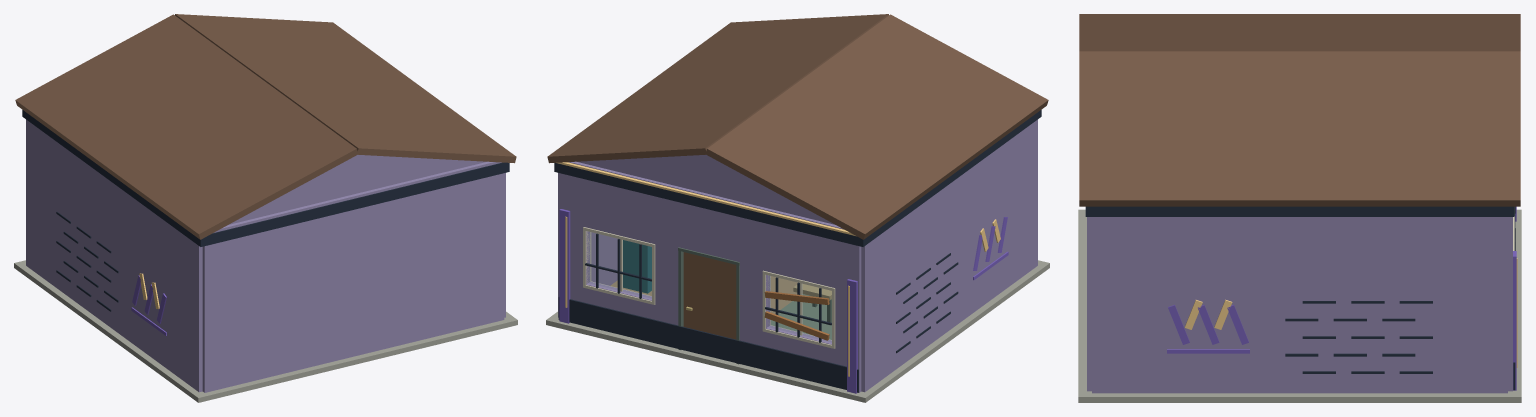
File: home.glb
3 renders of one model, left to right at view 1: azimuth 30°, elevation 25°; view 2: azimuth 150°, elevation 25°; view 3: azimuth 270°, elevation 25°, orthographic. The views are drawn at different scales.
Parts seen in each view (by area): view 1: pitched-roof (×2), back-wall, side-wall, roof-gable, foundation, cornice-outline; view 2: pitched-roof (×2), side-wall (×2), front-wall (×7), painted-plinth, roof-gable, foundation, cornice-outline, window-glass (×2), door-panel, corner-pilaster (×2), cornice-gloss, cabinet-body (+4 smaller); view 3: pitched-roof (×2), side-wall, foundation, cornice-outline, back-wall, corner-pilaster, graffiti-underline.
Part boxes in pixels (bbox=[...]): pitched-roof (×2): bbox=[15, 14, 516, 239]; back-wall: bbox=[202, 161, 504, 392]; side-wall: bbox=[26, 119, 202, 392]; roof-gable: bbox=[228, 155, 486, 224]; foundation: bbox=[14, 260, 517, 402]; cornice-outline: bbox=[22, 110, 509, 246]; pitched-roof (×2): bbox=[547, 14, 1048, 239]; side-wall (×2): bbox=[558, 119, 1037, 392]; front-wall (×7): bbox=[559, 161, 861, 392]; painted-plinth: bbox=[558, 297, 858, 392]; roof-gable: bbox=[577, 155, 835, 224]; foundation: bbox=[546, 260, 1049, 402]; cornice-outline: bbox=[554, 110, 1041, 246]; window-glass (×2): bbox=[588, 232, 831, 341]; door-panel: bbox=[683, 252, 736, 339]; corner-pilaster (×2): bbox=[559, 209, 857, 393]; cornice-gloss: bbox=[556, 162, 856, 236]; cabinet-body: bbox=[623, 240, 651, 293]; pitched-roof (×2): bbox=[1079, 14, 1520, 206]; side-wall: bbox=[1092, 217, 1507, 393]; foundation: bbox=[1078, 209, 1521, 402]; cornice-outline: bbox=[1085, 206, 1514, 216]; back-wall: bbox=[1087, 217, 1091, 391]; corner-pilaster: bbox=[1513, 251, 1516, 390]; graffiti-underline: bbox=[1167, 349, 1249, 353].
Bounding box in the file's own units: 9.6 × 6.18 × 9.6.
